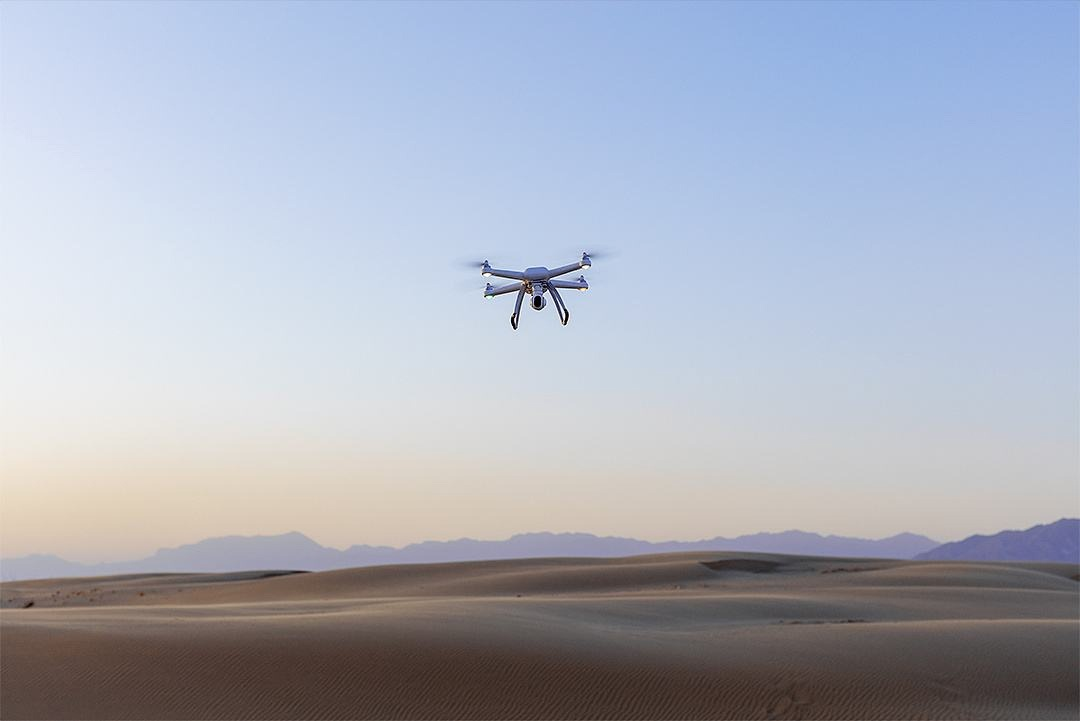DJI: (471, 251, 599, 333)
